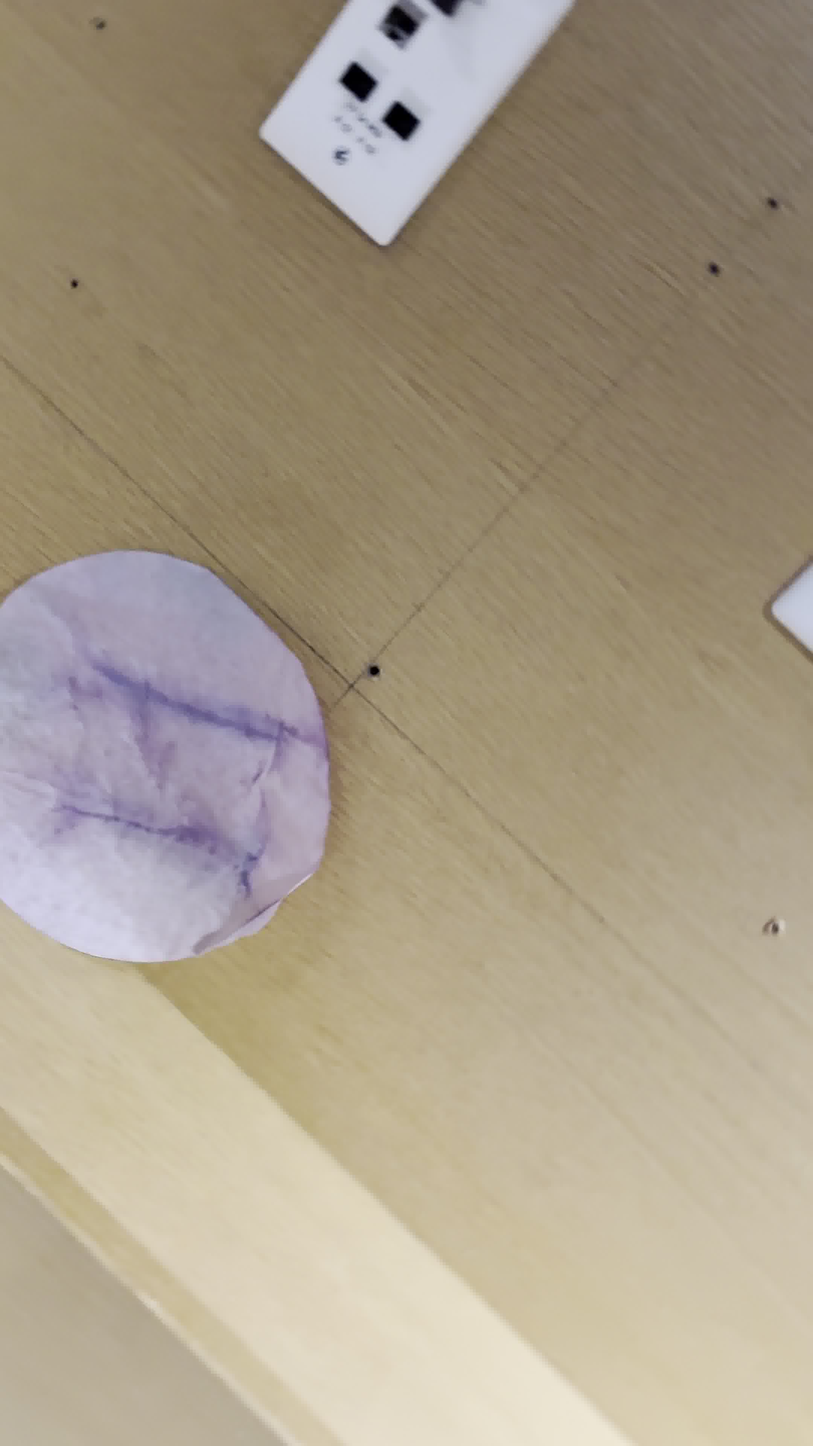Target: (0, 547, 333, 965)
